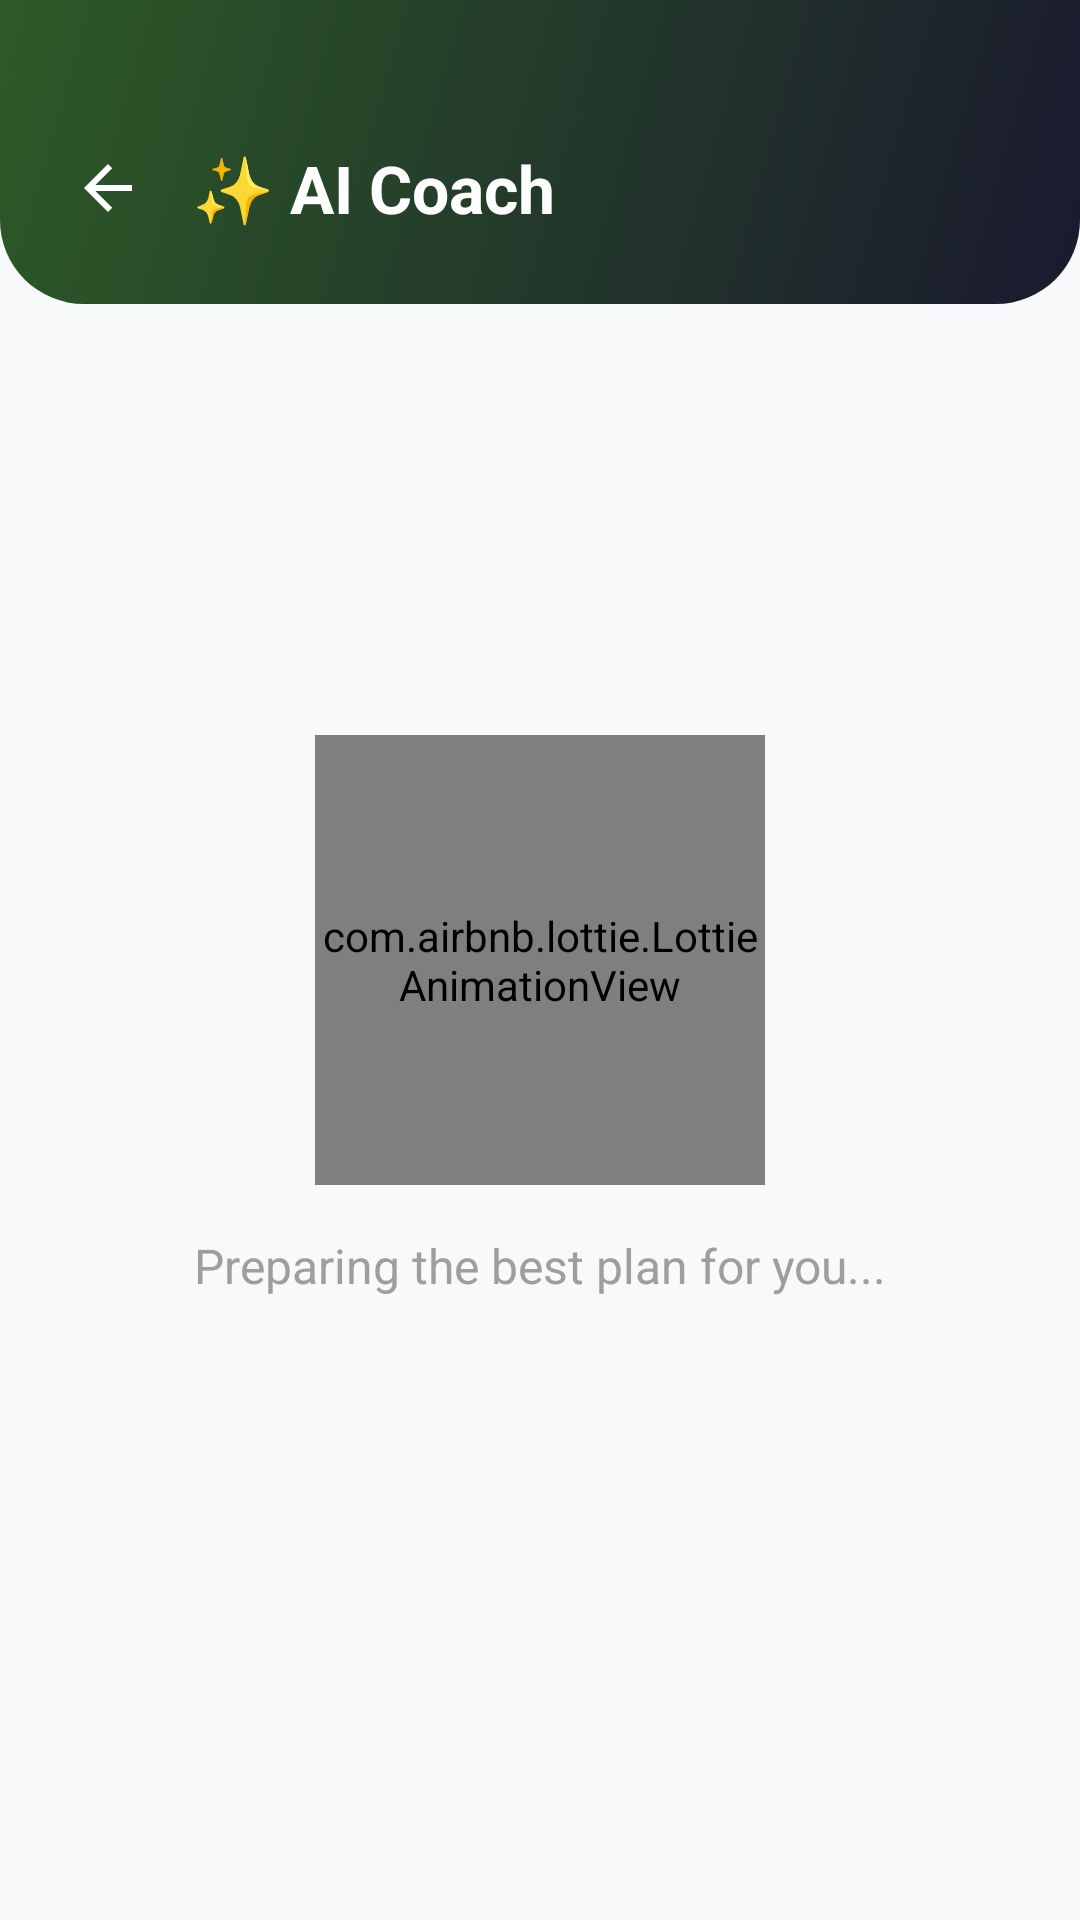

Point at icon controls on the screen. Image size 1080w x 1920h, points as (x=x, y=y).
Back: (x=108, y=188)
